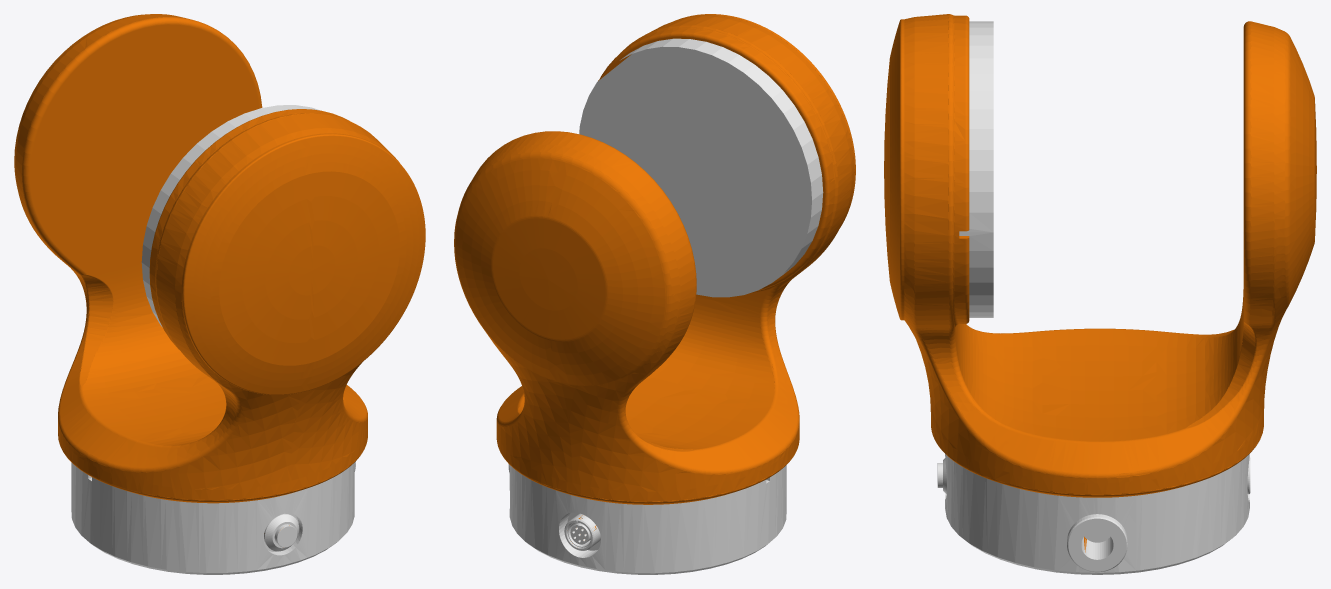
3 renders of one model, left to right at view 1: azimuth 30°, elevation 25°; view 2: azimuth 150°, elevation 25°; view 3: azimuth 270°, elevation 25°, orthographic. The views are drawn at different scales.
Parts seen in each view (by area): view 1: Link7; view 2: Link7; view 3: Link7.
Boxes of the visible parts, x1,y1,x2,y2 form: Link7: [14, 14, 425, 574]; Link7: [454, 14, 855, 574]; Link7: [884, 14, 1316, 574].
Size of the model in its own units: 0.082 by 0.1334 by 0.1065.
